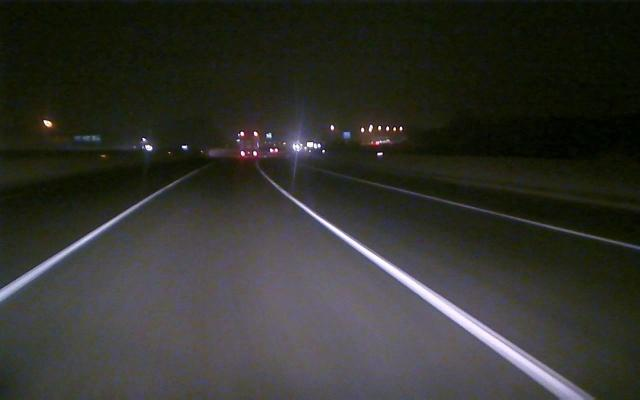lane: (271, 182, 596, 398), (0, 188, 169, 303), (387, 186, 640, 253)
